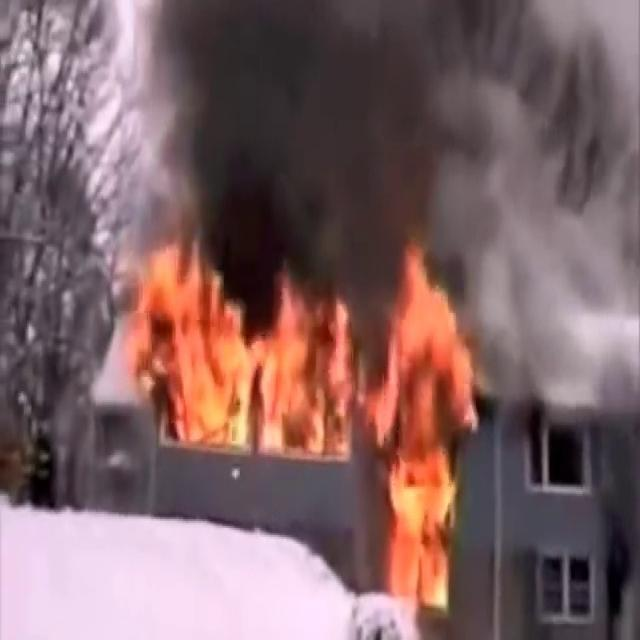Fire: (108, 228, 484, 482), (380, 368, 472, 604)
Smoke: (106, 0, 637, 283)
